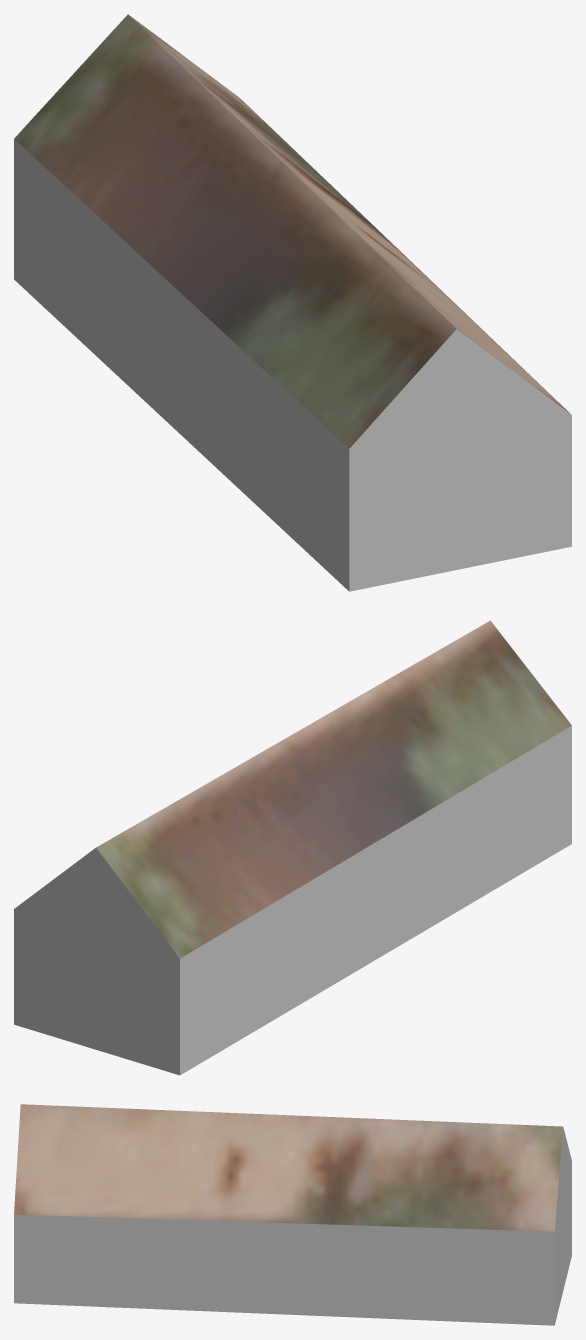
The model's file is DEBW_0010007Tx7h.gltf.
3 views of the same model, one above another, from view 1: azimuth 30°, elevation 25°; view 2: azimuth 150°, elevation 25°; view 3: azimuth 270°, elevation 25° (orthographic). The views are drawn at different scales.
Visible parts, largest first — view 1: Z_UP; view 2: Z_UP; view 3: Z_UP.
Boxes of the visible parts, box(x1,y1,x2,y2) form: Z_UP: box(14, 14, 571, 591); Z_UP: box(14, 620, 571, 1075); Z_UP: box(14, 1104, 571, 1325).
Size of the model in its own units: 7.23 by 5.99 by 18.4.
2 materials, 1 textured.
